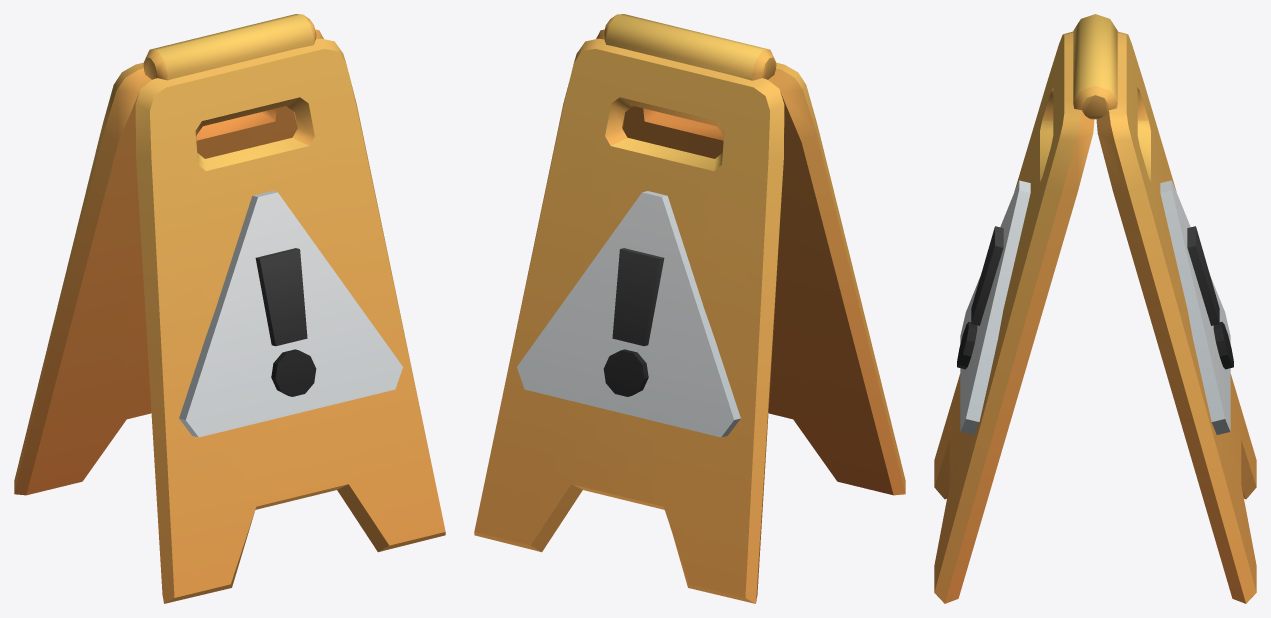
Rendered from panneau.glb.
3 views of the same model, side by side, from view 1: azimuth 30°, elevation 25°; view 2: azimuth 150°, elevation 25°; view 3: azimuth 270°, elevation 25° (orthographic).
Visible parts, largest first — view 1: sign; view 2: sign; view 3: sign.
Part boxes in pixels (x1,y1,x2,y2): sign: [14, 14, 445, 603]; sign: [474, 14, 905, 603]; sign: [934, 14, 1256, 603].
Bounding box in the file's own units: 0.7664 × 1.26 × 0.7551.
1 material, 1 textured.
